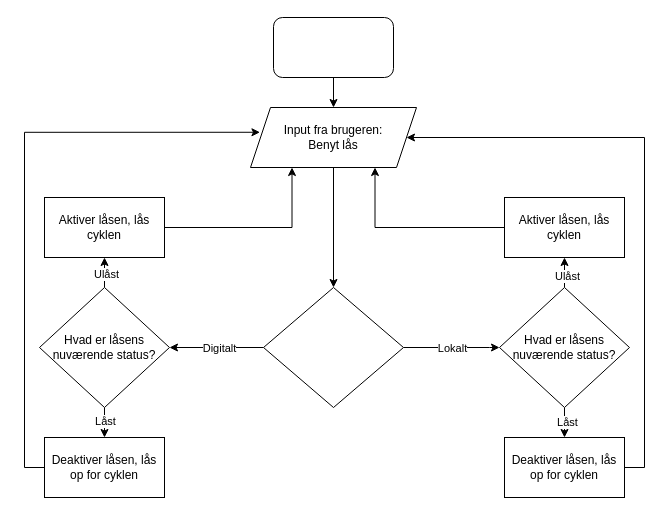
Some shapes in this 670 by 515 pixel diagram are drawn without their labels. The centre of each missing label's shape, as x and y in pixels:
Er input lokalt eller digitalt?: point (333, 347)
Start: point (333, 47)
